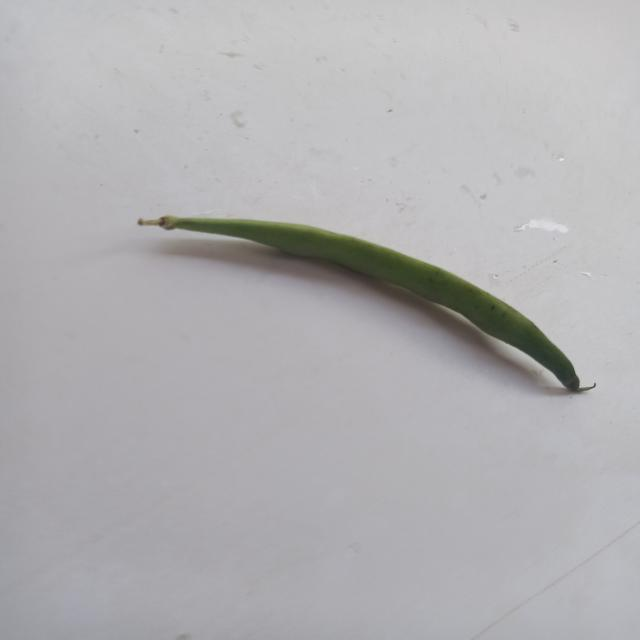Beans: (120, 173, 640, 409)
